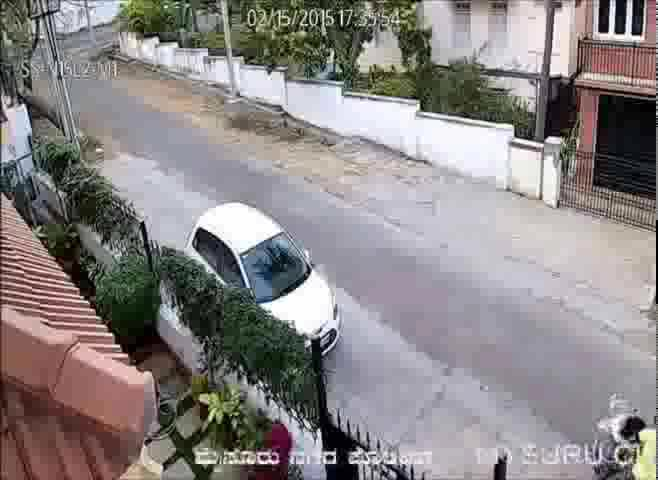snatching objects: (564, 344, 657, 480)
